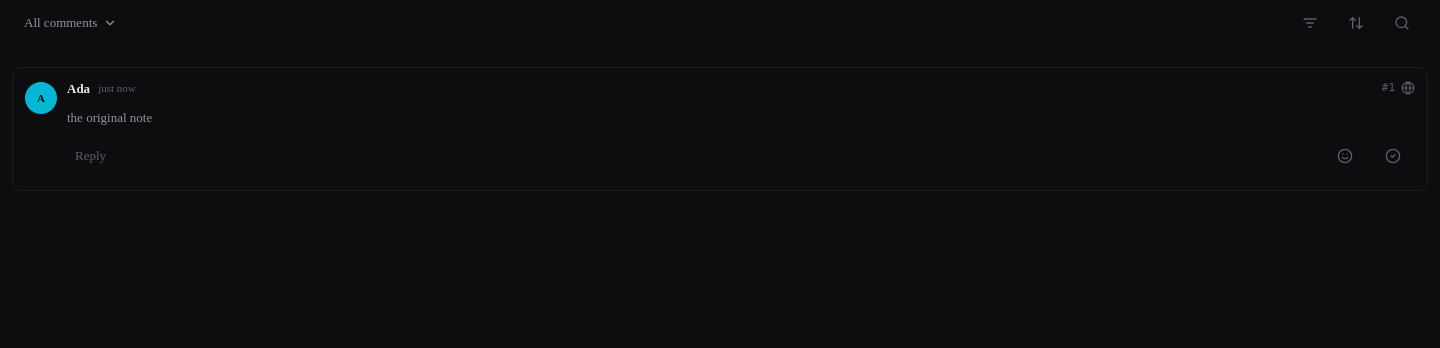
Test: a reply never fails silently › keeps the draft on screen after a failure, so it is not lost
Click the button "Reply": x=91, y=156 [67, 134, 114, 178]
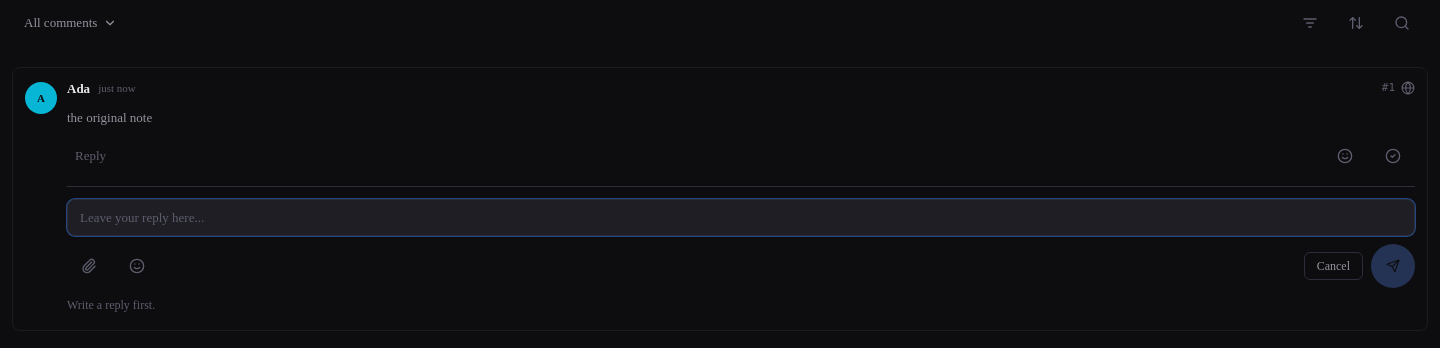
In the field with placeholder "Leave your reply here...": x=741, y=217 [67, 199, 1415, 236], type "words worth keeping"
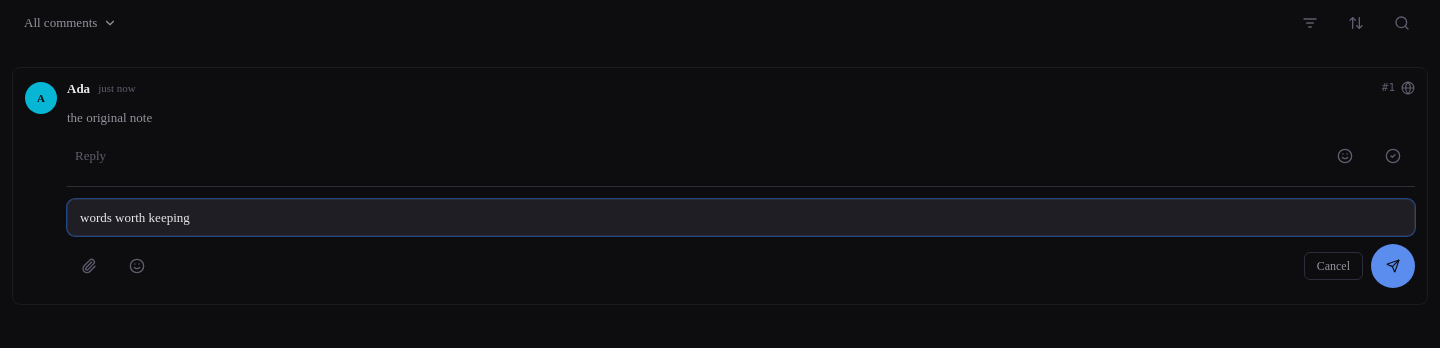
Click the button named "send reply": x=1393, y=266 [1371, 244, 1415, 288]
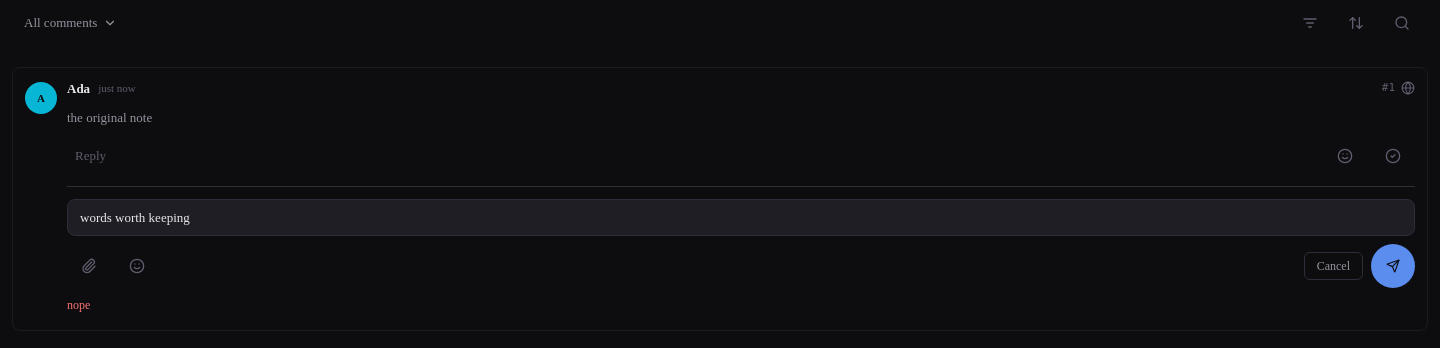
Expected: the message "nope" is shown, [67, 298, 90, 312]
